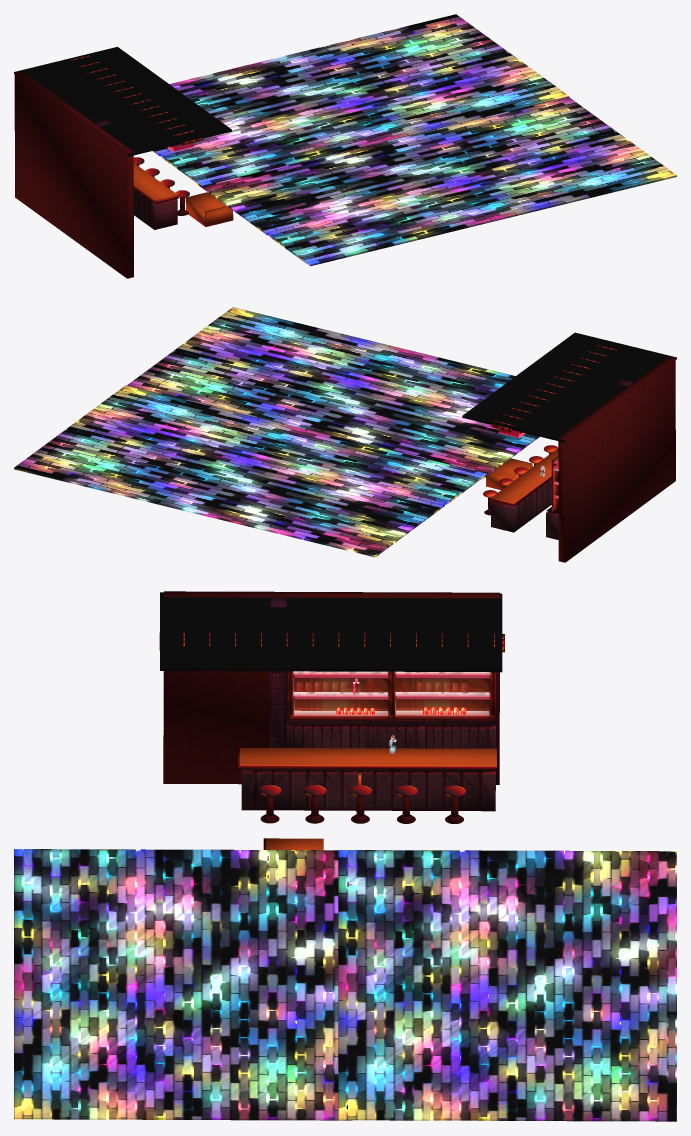
The model's file is danceFloor.glb.
3 views of the same model, one above another, from view 1: azimuth 30°, elevation 25°; view 2: azimuth 150°, elevation 25°; view 3: azimuth 270°, elevation 25° (orthographic). The views are drawn at different scales.
Parts seen in each view (by area): view 1: Mesh_32, Mesh_32.001, Mesh_15, Mesh_14, Mesh_10; view 2: Mesh_32.001, Mesh_32, Mesh_15, Mesh_14, Mesh_10; view 3: Mesh_32.001, Mesh_32, Mesh_14, Mesh_15, Mesh_10, Mesh_13, Mesh_11, Mesh_16.
Part boxes in pixels (x1,y1,x2,y2): Mesh_32: [197, 97, 676, 266]; Mesh_32.001: [153, 14, 569, 185]; Mesh_15: [14, 70, 188, 278]; Mesh_14: [14, 47, 233, 226]; Mesh_10: [133, 188, 177, 229]; Mesh_32.001: [14, 385, 486, 557]; Mesh_32: [127, 307, 539, 479]; Mesh_15: [484, 356, 675, 562]; Mesh_14: [462, 332, 676, 507]; Mesh_10: [491, 478, 558, 539]; Mesh_32.001: [338, 850, 676, 1121]; Mesh_32: [14, 849, 352, 1120]; Mesh_14: [159, 592, 504, 878]; Mesh_15: [163, 591, 500, 823]; Mesh_10: [241, 720, 495, 811]; Mesh_13: [286, 671, 496, 721]; Mesh_11: [293, 678, 489, 710]; Mesh_16: [270, 597, 286, 747].
Bounding box in the file's own units: 39 × 9.4 × 29.9.
14 materials, 13 textured.
